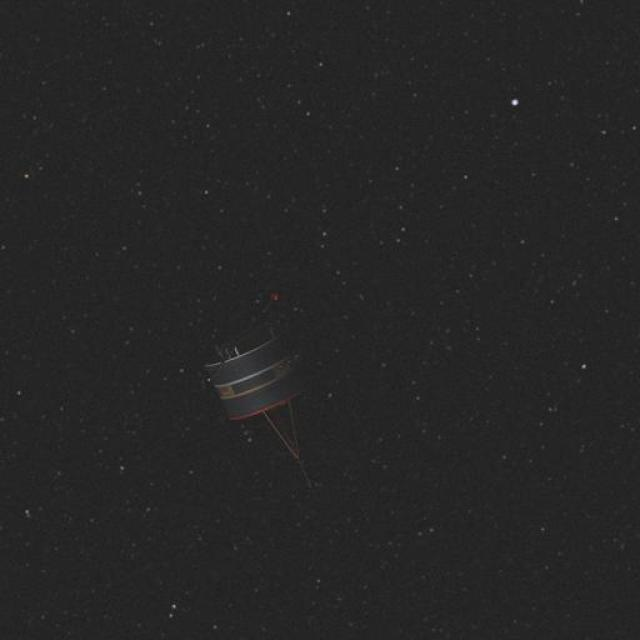double_start: (171, 283, 336, 483)
